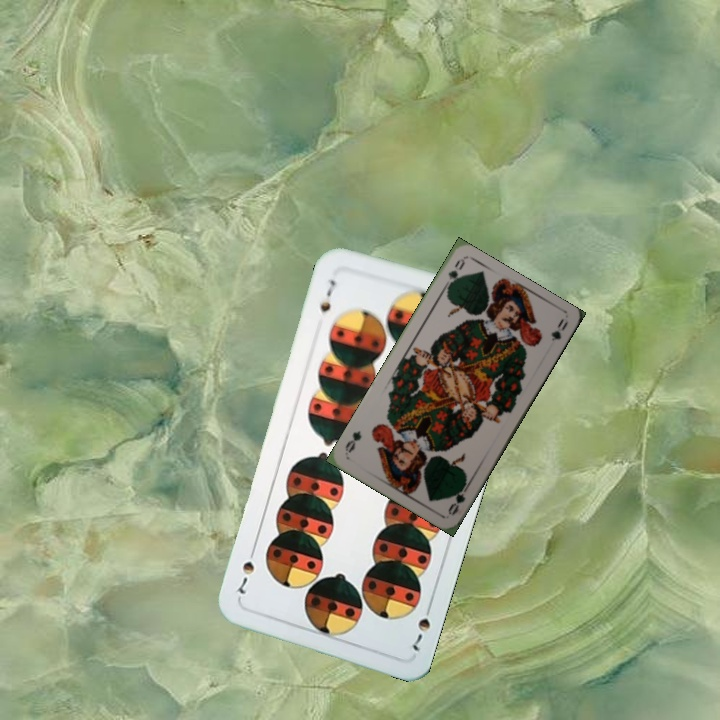GO: (444, 478, 472, 518), (439, 256, 467, 295)
S7: (408, 599, 435, 654), (316, 275, 338, 319)
